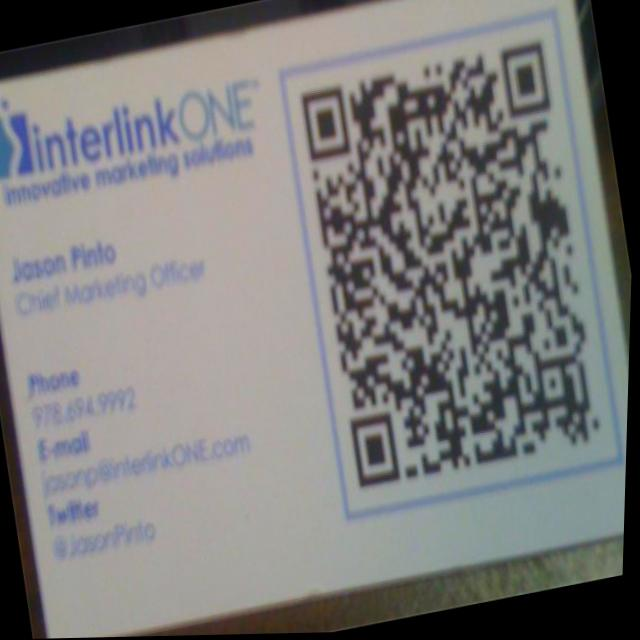qrcode: (293, 43, 615, 489)
